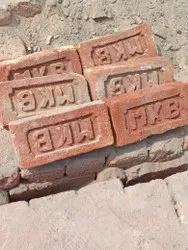brick: (10, 99, 114, 168), (108, 84, 186, 147), (1, 72, 90, 124), (85, 56, 175, 103), (79, 23, 160, 72), (1, 46, 82, 86)
